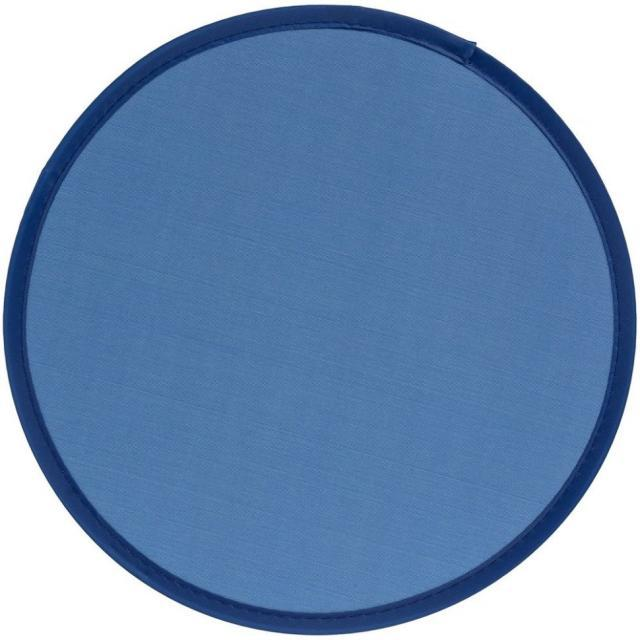Circle: (2, 2, 638, 634)
